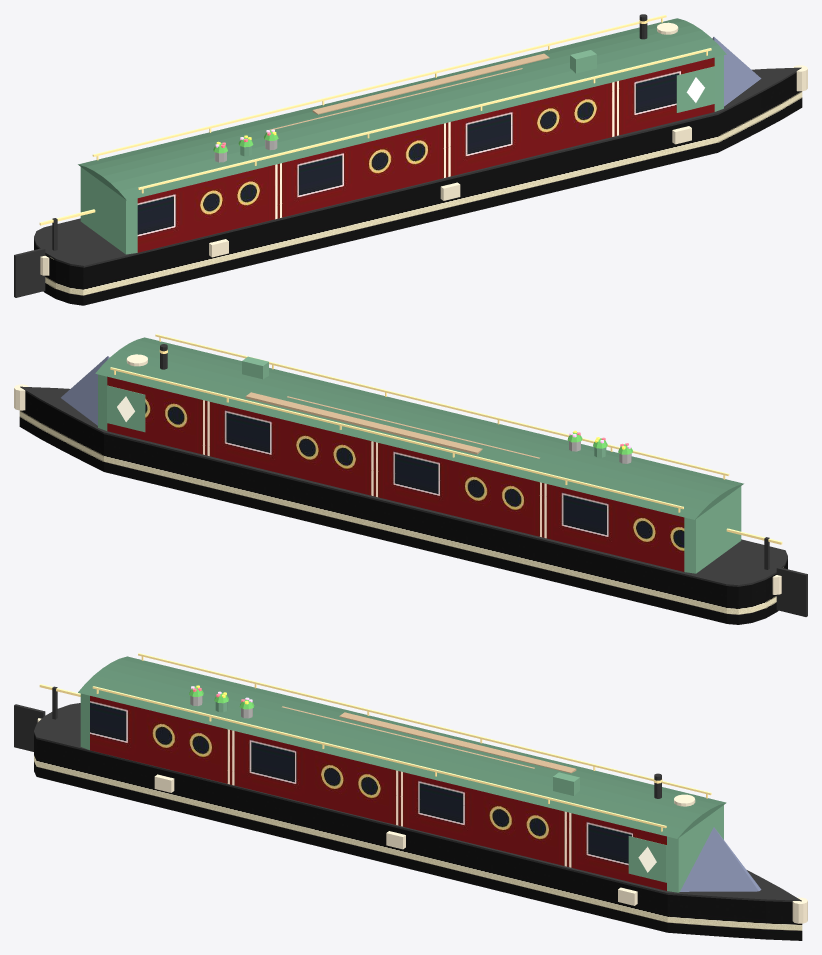
Rendered from boat-3.glb.
The picture shows the model from 3 angles, top to bottom: view 1: azimuth 30°, elevation 25°; view 2: azimuth 150°, elevation 25°; view 3: azimuth 330°, elevation 25°; orthographic projection.
Parts seen in each view (by area): view 1: Cabin, Hull, Roof, Gunwale, CabinEndF, Handrail, Plank, RopeCoil, Cratch; view 2: Cabin, Hull, Roof, Gunwale, CabinEndF, Handrail, Plank, Cratch, RopeCoil; view 3: Cabin, Hull, Roof, Gunwale, CabinEndF, Handrail, Cratch, Plank, RopeCoil.
Part boxes in pixels (x1,y1,x2,y2): Cabin: [137, 57, 714, 252]; Hull: [34, 72, 802, 305]; Roof: [78, 18, 726, 200]; Gunwale: [14, 14, 801, 297]; CabinEndF: [80, 50, 723, 254]; Handrail: [39, 15, 711, 225]; Plank: [269, 53, 549, 130]; RopeCoil: [40, 22, 807, 275]; Cratch: [712, 37, 761, 106]; Cabin: [107, 376, 684, 571]; Hull: [19, 392, 787, 624]; Roof: [95, 337, 743, 519]; Gunwale: [20, 344, 807, 616]; CabinEndF: [98, 356, 741, 573]; Handrail: [110, 334, 782, 544]; Plank: [245, 392, 539, 458]; Cratch: [61, 356, 109, 425]; RopeCoil: [14, 354, 781, 594]; Cabin: [90, 696, 666, 890]; Hull: [34, 734, 802, 940]; Roof: [78, 656, 726, 838]; Gunwale: [14, 686, 801, 902]; CabinEndF: [80, 693, 723, 892]; Handrail: [39, 653, 711, 831]; Cratch: [680, 827, 761, 891]; Plank: [282, 706, 576, 773]; RopeCoil: [37, 718, 807, 923].
Bounding box in the file's own units: 18.81 × 2.8 × 2.24.
15 materials, 2 textured.
